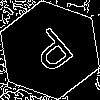P: (25, 25, 83, 82)
